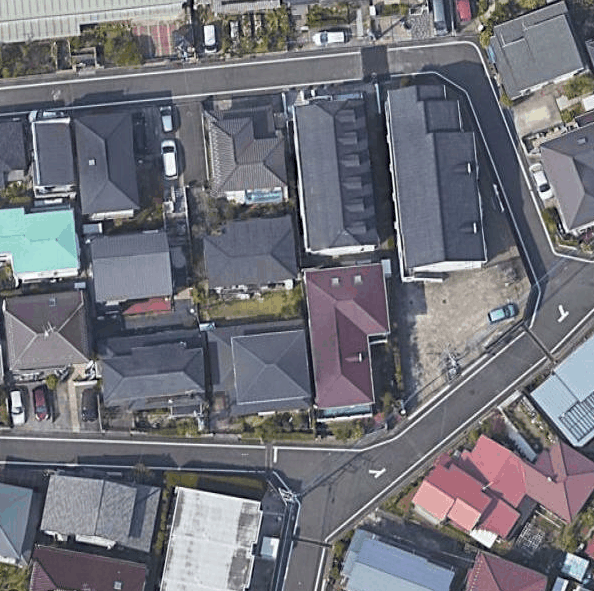flatroof: (146, 477, 267, 589)
